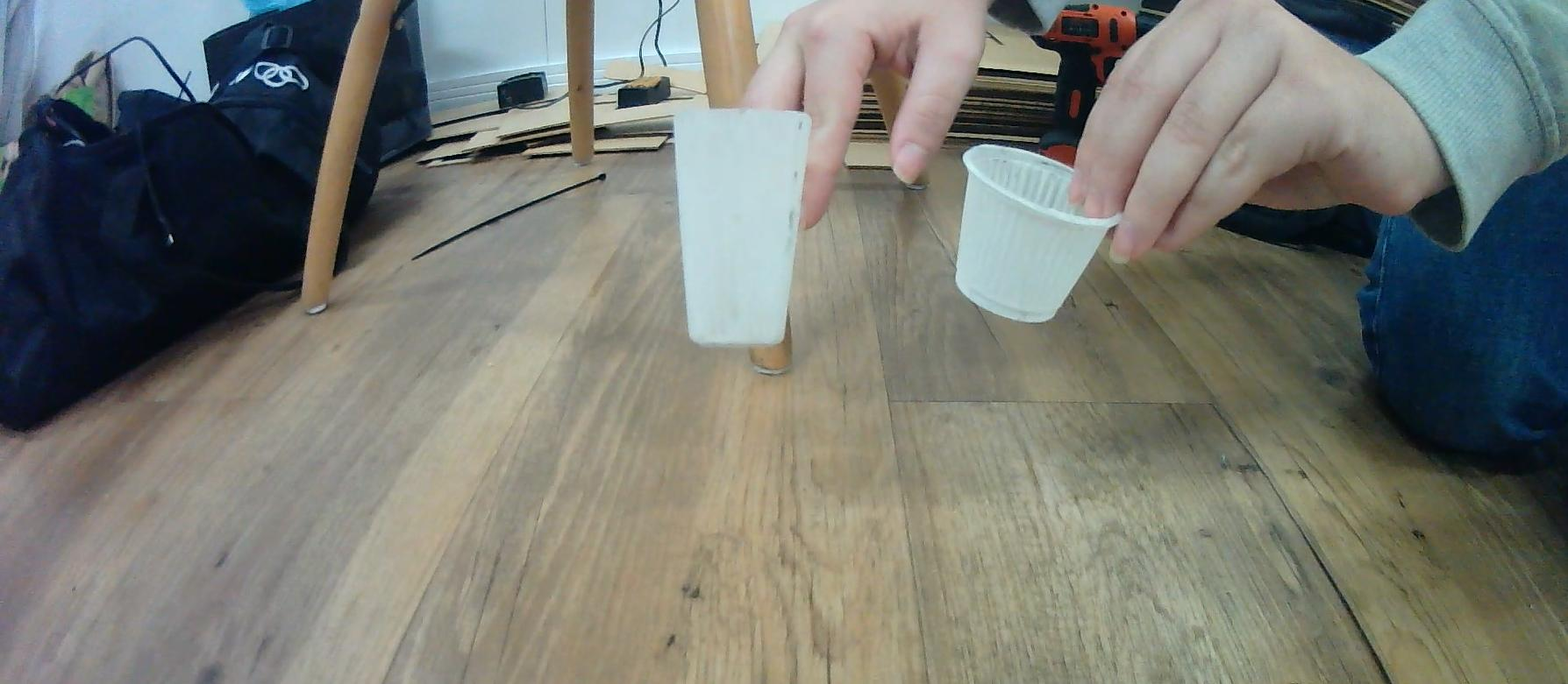erva_daninha: (672, 103, 812, 349)
planta: (954, 142, 1123, 328)
